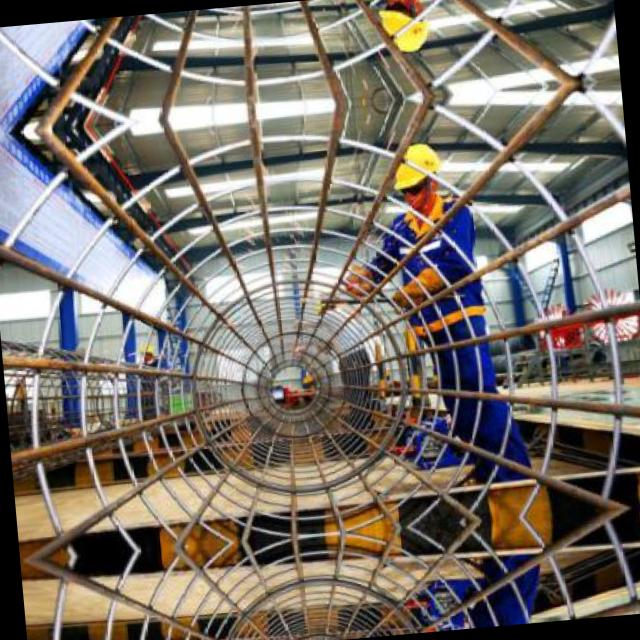helmet: (394, 136, 444, 201), (382, 0, 432, 58)
